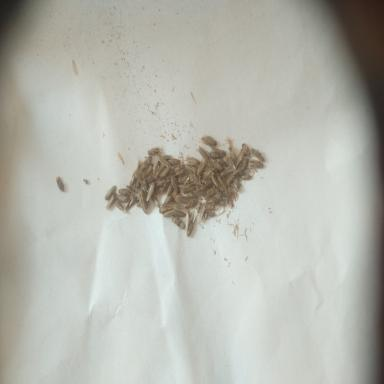pbw: (198, 135, 218, 147), (141, 162, 154, 180), (140, 154, 153, 172), (193, 180, 208, 195), (170, 215, 186, 229), (250, 147, 264, 163), (104, 184, 117, 201), (104, 193, 117, 210), (125, 195, 138, 212), (185, 215, 195, 237), (170, 172, 180, 193), (134, 170, 147, 186), (238, 157, 249, 175), (166, 178, 177, 196), (126, 184, 140, 198), (196, 145, 209, 160), (154, 165, 166, 181), (152, 160, 162, 179), (218, 175, 228, 193), (146, 146, 164, 156), (196, 158, 206, 176), (146, 182, 155, 202), (140, 188, 148, 210), (228, 147, 238, 164), (235, 152, 245, 169), (156, 154, 169, 167), (208, 159, 222, 171), (204, 187, 219, 198), (241, 143, 251, 159), (138, 198, 148, 214), (248, 159, 264, 169), (185, 198, 198, 210), (114, 200, 126, 213), (225, 156, 236, 170), (171, 201, 185, 212), (199, 203, 207, 222), (210, 147, 226, 156), (180, 184, 194, 194), (150, 195, 160, 209), (208, 151, 225, 159), (142, 177, 150, 194), (210, 176, 221, 188), (173, 163, 186, 173), (186, 156, 199, 166), (56, 176, 64, 192), (174, 196, 190, 204), (158, 206, 172, 215), (116, 194, 130, 203), (185, 163, 197, 173), (173, 169, 187, 177), (226, 174, 234, 188), (118, 188, 132, 196), (185, 209, 190, 231), (154, 186, 166, 195), (156, 178, 166, 188), (167, 158, 181, 165), (163, 211, 175, 218), (221, 169, 230, 177), (162, 154, 172, 160)
